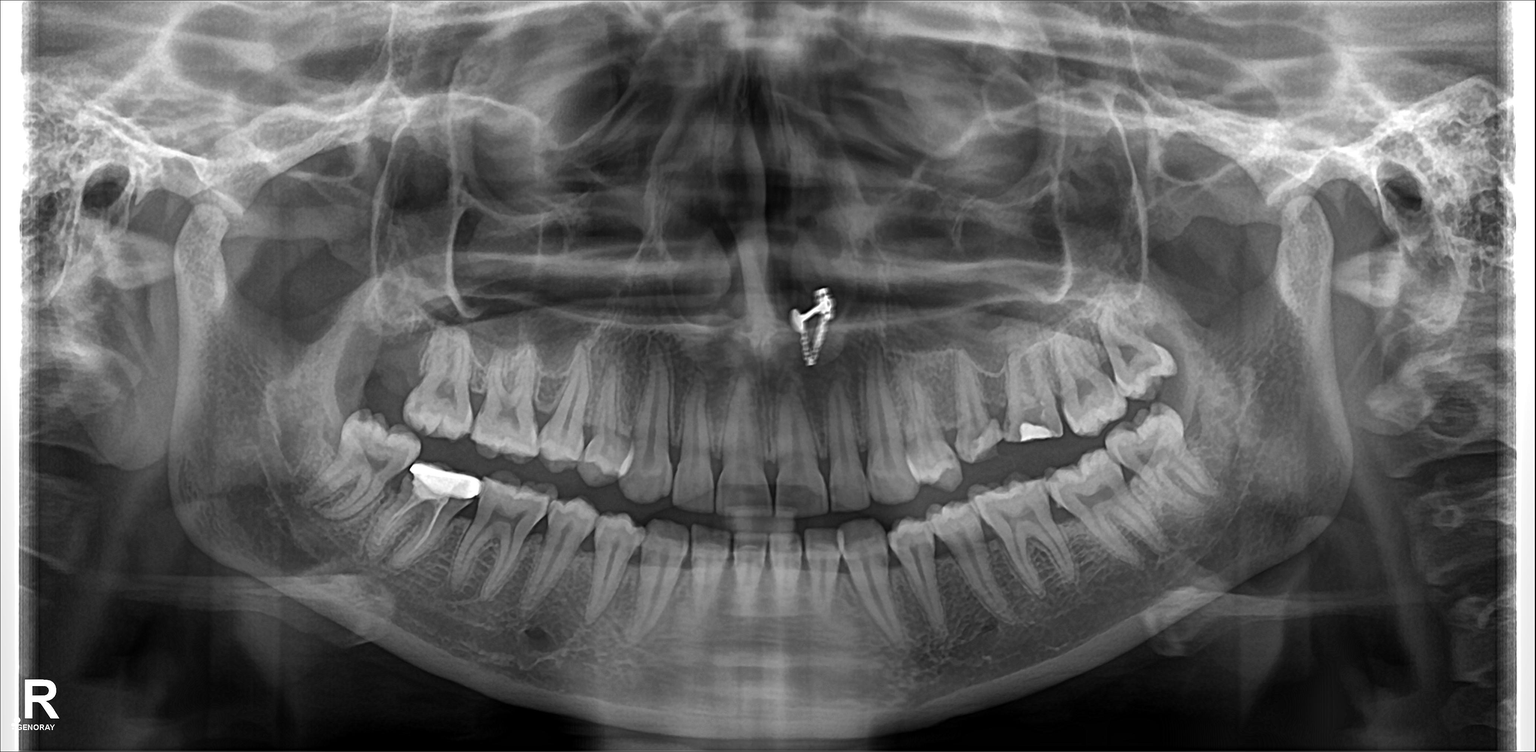Dental Caries: (1108, 337, 1156, 381), (1021, 406, 1056, 438)
Endodontically Treated Tooth: (402, 462, 472, 585)
Missing Tooth: (361, 309, 416, 414)
